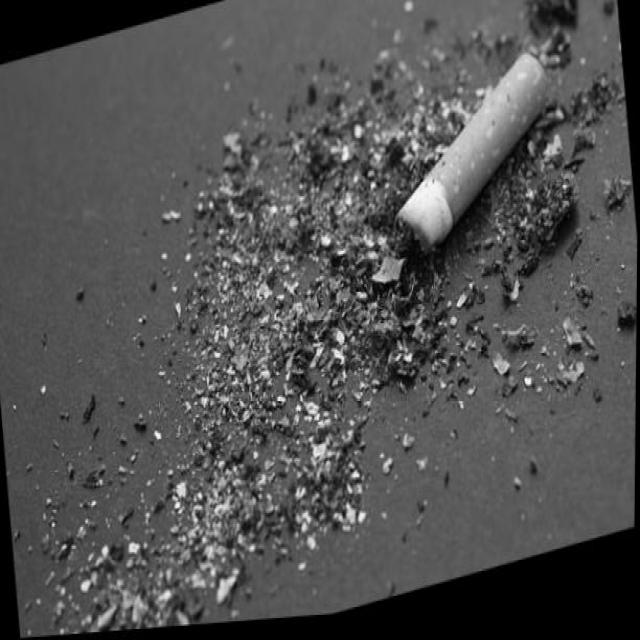cigarette: (374, 46, 572, 290)
